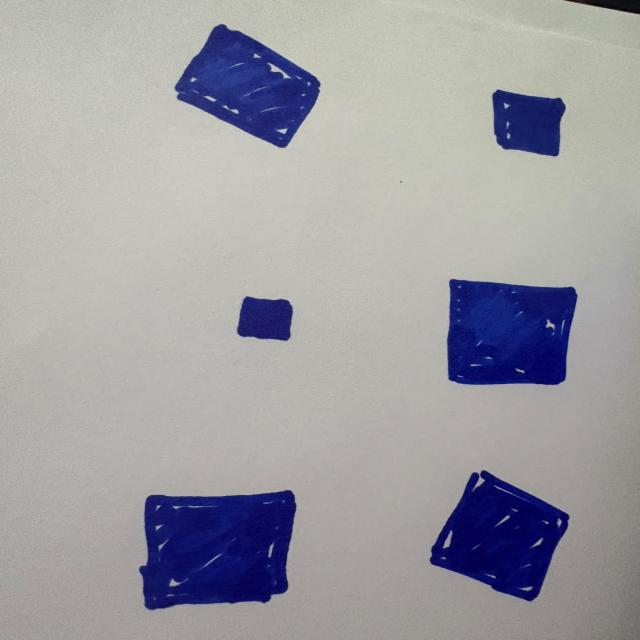Square: (140, 491, 295, 608), (430, 471, 569, 601), (175, 25, 319, 147), (447, 279, 577, 385), (228, 292, 312, 354), (492, 90, 565, 156)
